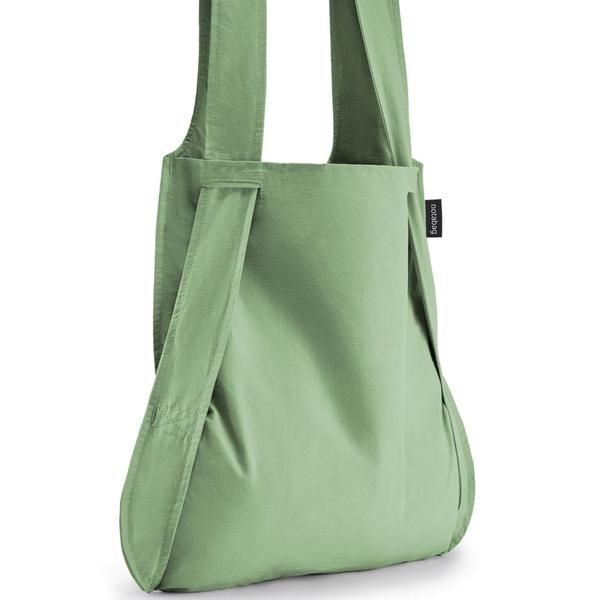nylon: (118, 1, 476, 594)
